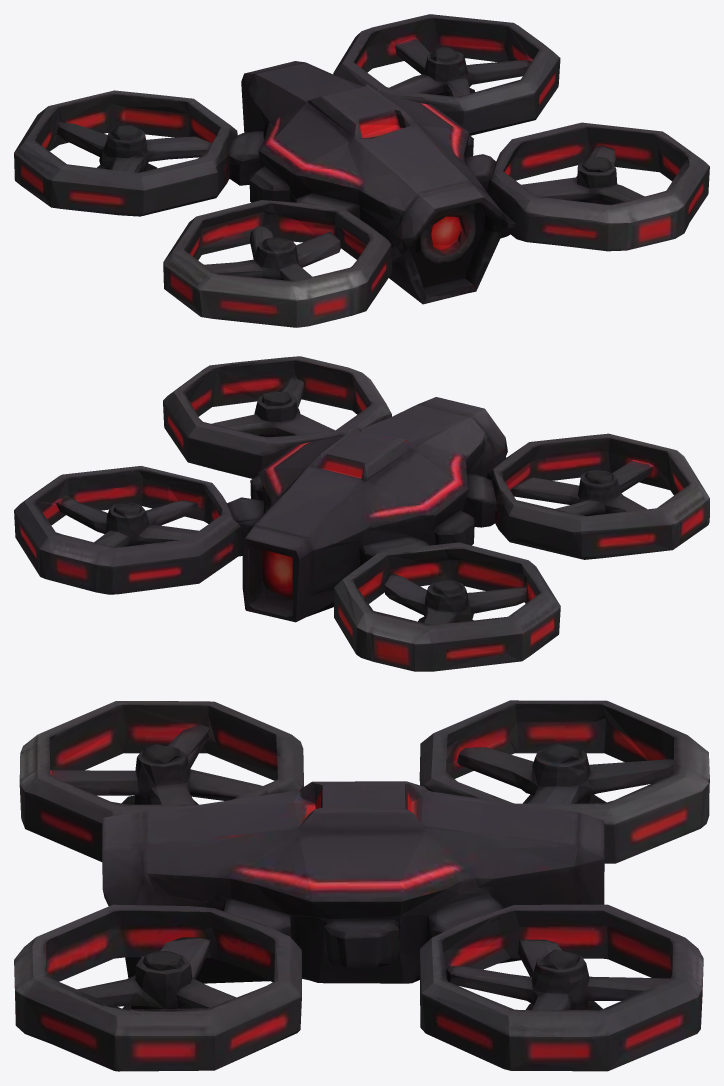
File: threat-drone-ai.glb
3 views of the same model, one above another, from view 1: azimuth 30°, elevation 25°; view 2: azimuth 150°, elevation 25°; view 3: azimuth 270°, elevation 25° (orthographic). The views are drawn at different scales.
Visible parts, largest first — view 1: geometry_0; view 2: geometry_0; view 3: geometry_0.
Boxes of the visible parts, x1,y1,x2,y2 form: geometry_0: (14, 14, 709, 327); geometry_0: (14, 356, 709, 671); geometry_0: (14, 700, 709, 1071).
Bounding box in the file's own units: 0.9925 × 0.243 × 0.8845.
1 material, 1 textured.
